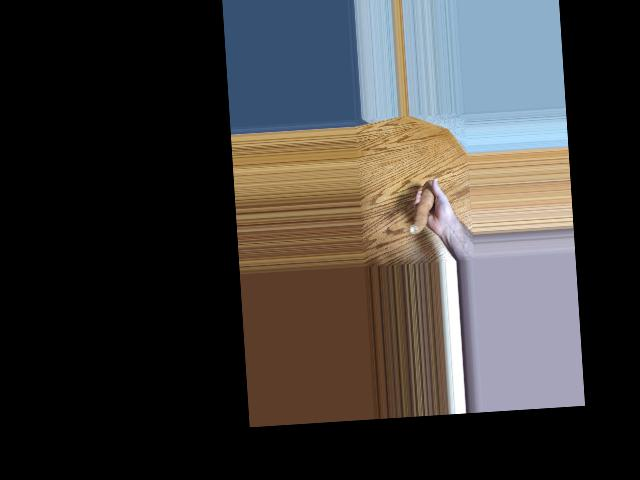sweet_potato: (407, 180, 439, 236)
